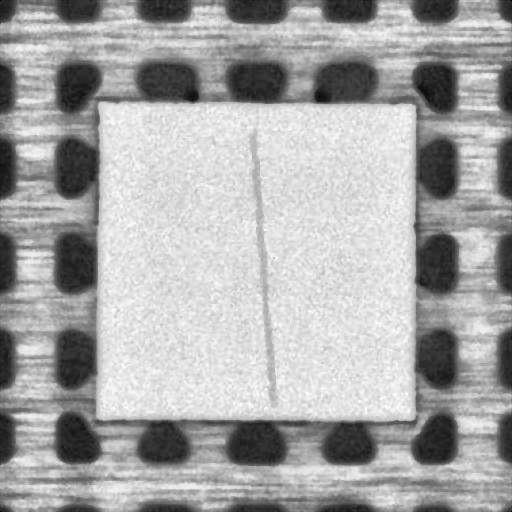DIE_CRACK: (251, 133, 272, 402)
